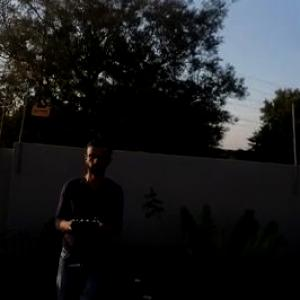follow: (49, 140, 130, 299)
